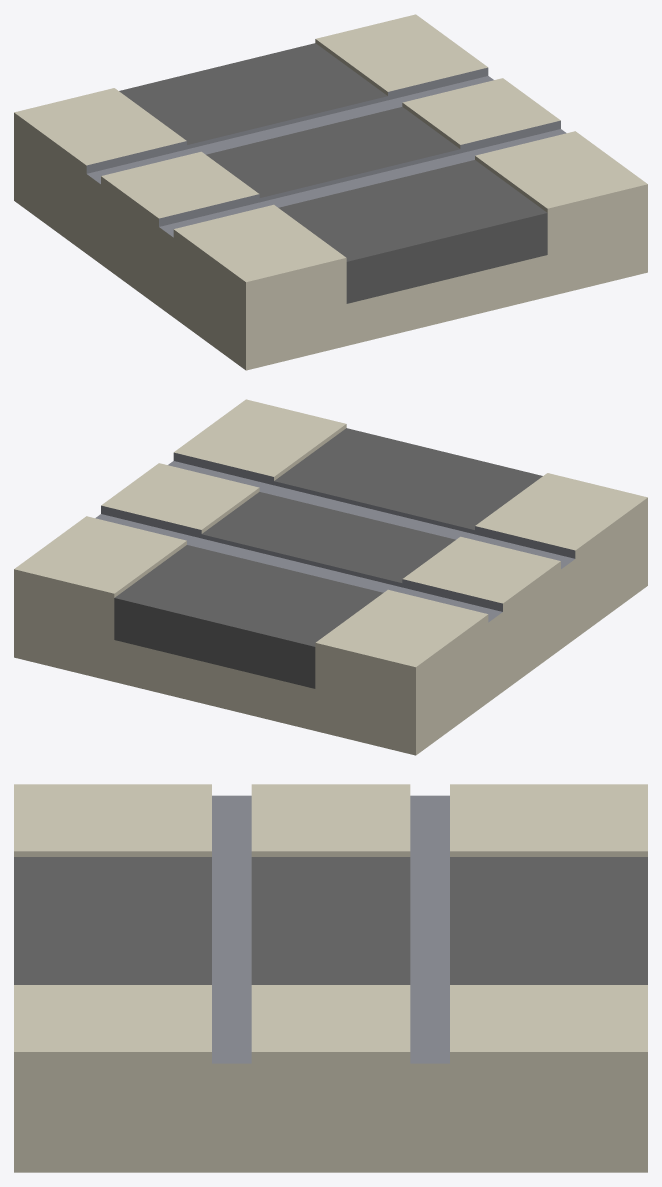
The model's file is tile275.dae.
3 renders of one model, top to bottom at view 1: azimuth 30°, elevation 25°; view 2: azimuth 150°, elevation 25°; view 3: azimuth 270°, elevation 25°, orthographic. The views are drawn at different scales.
Parts seen in each view (by area): view 1: tile275; view 2: tile275; view 3: tile275.
Boxes of the visible parts, <box> form: tile275: <box>14,14,647,370</box>; tile275: <box>14,399,647,755</box>; tile275: <box>14,784,647,1172</box>.
Bounding box in the file's own units: 1 × 0.21 × 1.
